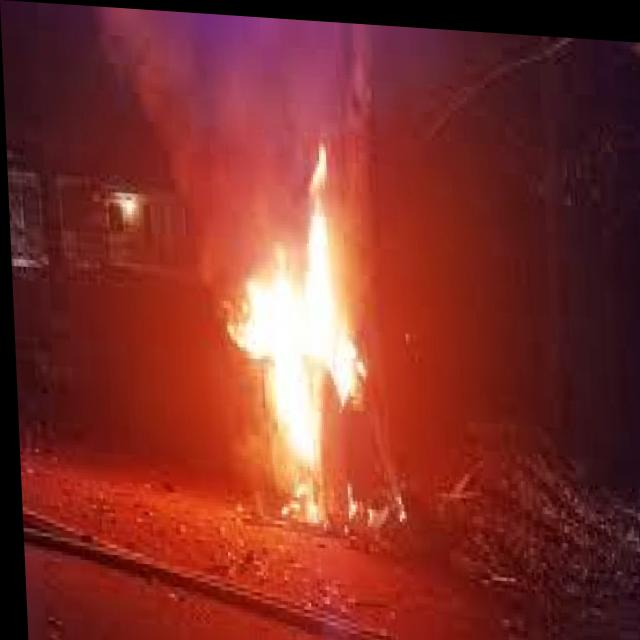fire: (208, 130, 410, 528)
